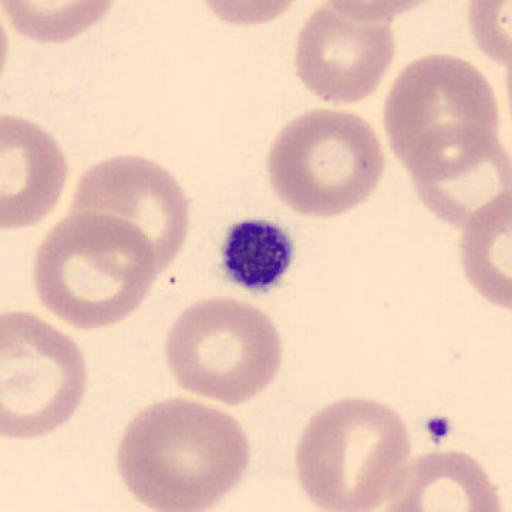Platelet: (217, 216, 298, 295)
RBC: (114, 396, 252, 512), (67, 152, 192, 277), (33, 210, 158, 332), (382, 53, 501, 177), (265, 106, 388, 220), (294, 395, 413, 512), (164, 294, 284, 408), (405, 121, 512, 229), (2, 310, 89, 440), (293, 3, 397, 106), (1, 113, 70, 231), (376, 448, 503, 512), (458, 189, 512, 312), (2, 0, 119, 44), (466, 0, 512, 68), (196, 0, 304, 27), (322, 0, 440, 24), (362, 486, 428, 512)
